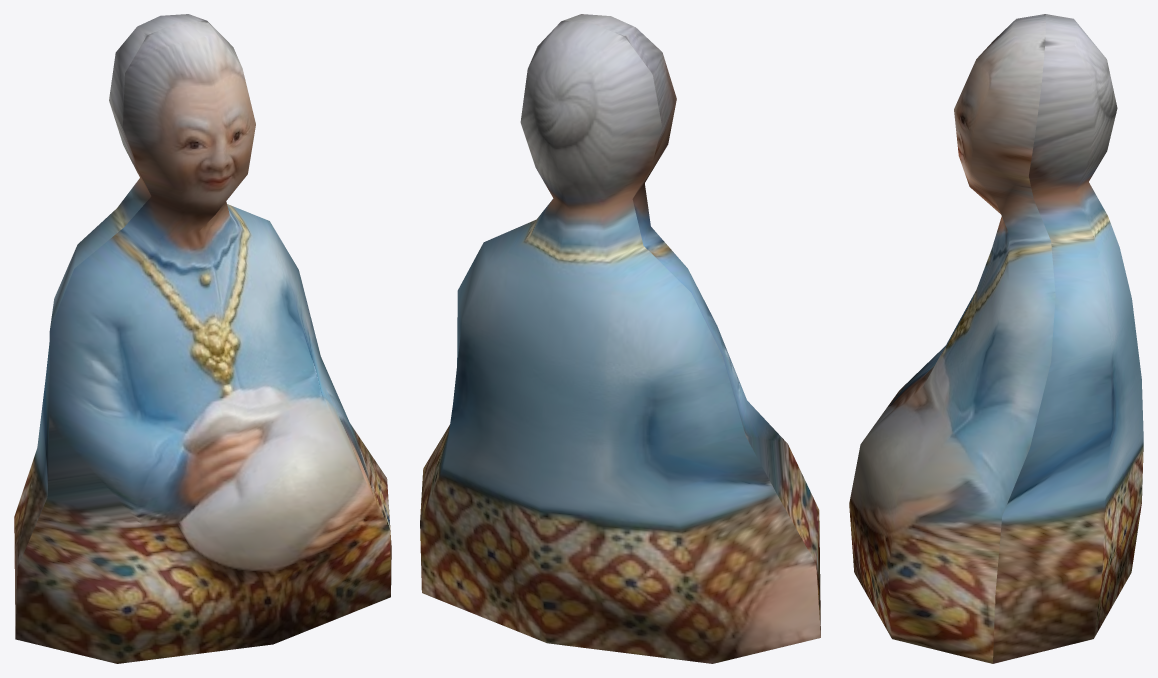
File: GrannyDoll.fbx
3 renders of one model, left to right at view 1: azimuth 30°, elevation 25°; view 2: azimuth 150°, elevation 25°; view 3: azimuth 270°, elevation 25°, orthographic. The views are drawn at different scales.
Visible parts, largest first — view 1: GrannyDoll; view 2: GrannyDoll; view 3: GrannyDoll.
Part boxes in pixels (x1,y1,x2,y2): GrannyDoll: [14, 14, 391, 663]; GrannyDoll: [420, 14, 820, 663]; GrannyDoll: [849, 14, 1143, 663].
Bounding box in the file's own units: 5.49 × 7.69 × 3.74.
1 material, 1 textured.
